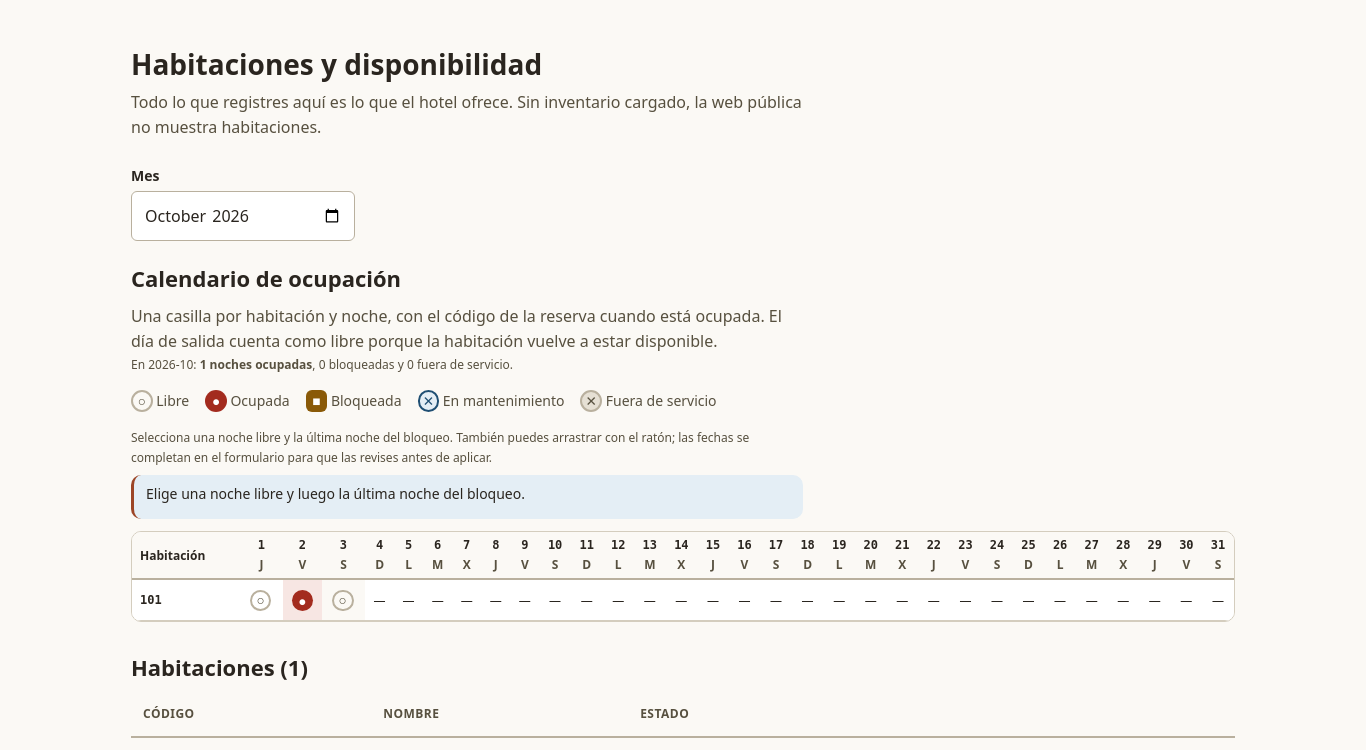
prioridad del alta inicial del inventario › no permite completar un rango que cruza una noche ocupada
Click the button named "Habitación 101, noche 2026-10-01, libre" at (261, 600), box [240,580,281,620]
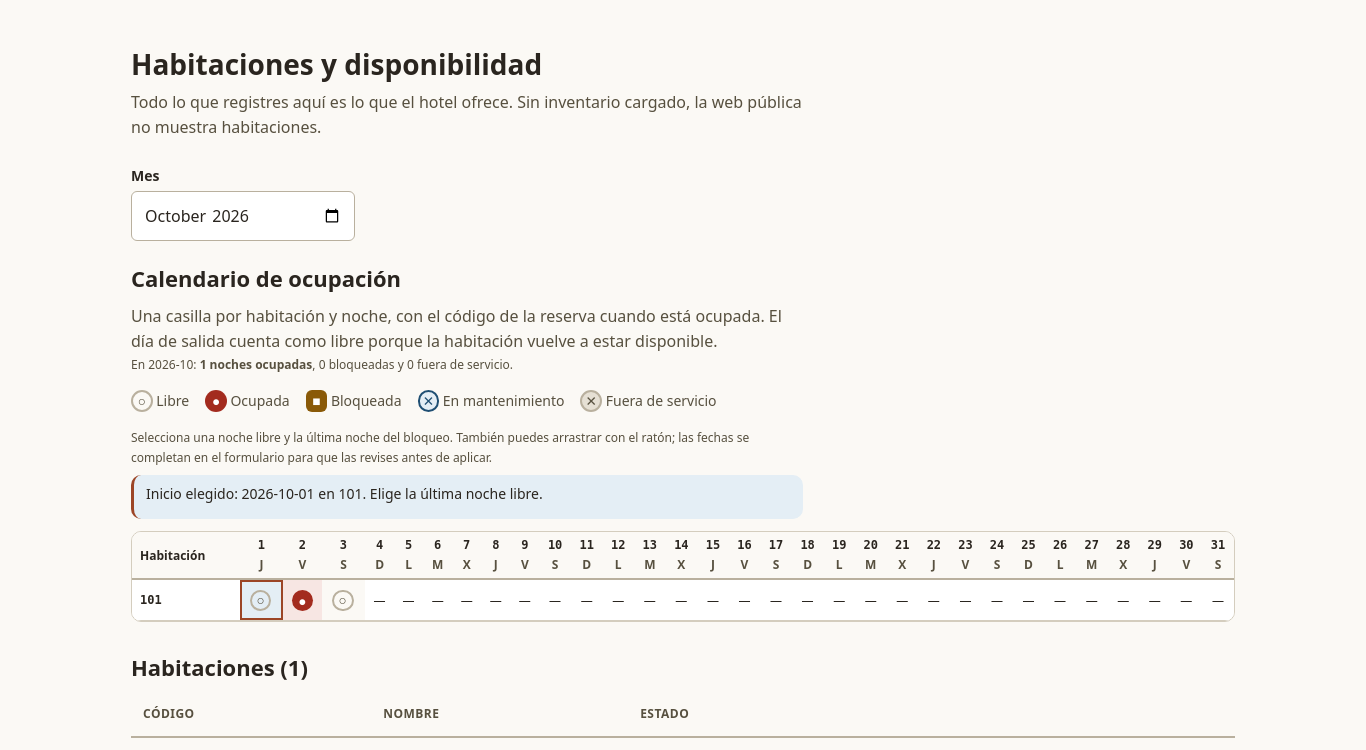
Click the button named "Habitación 101, noche 2026-10-03, libre" at (343, 600), box [322,580,364,620]
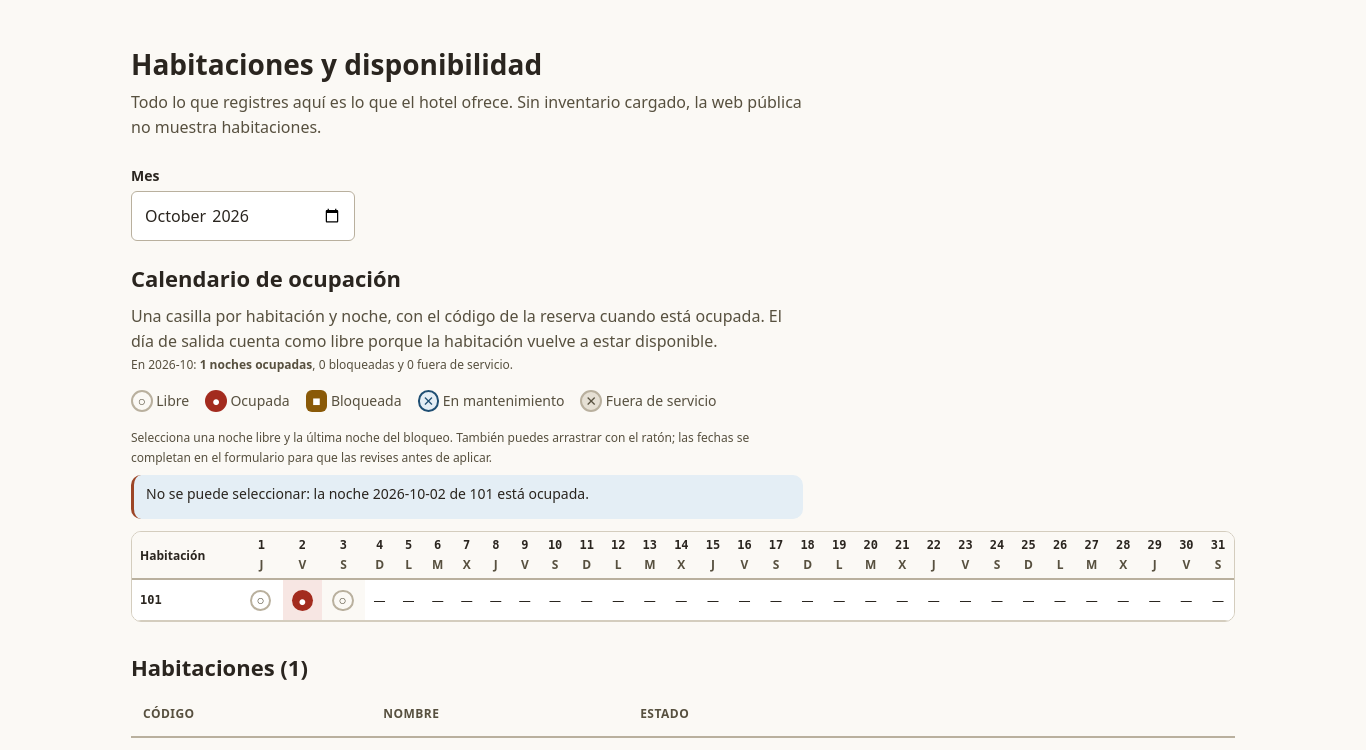
Result: the message named "Selección de noches" shows "2026-10-02" at [146,484,589,503]
